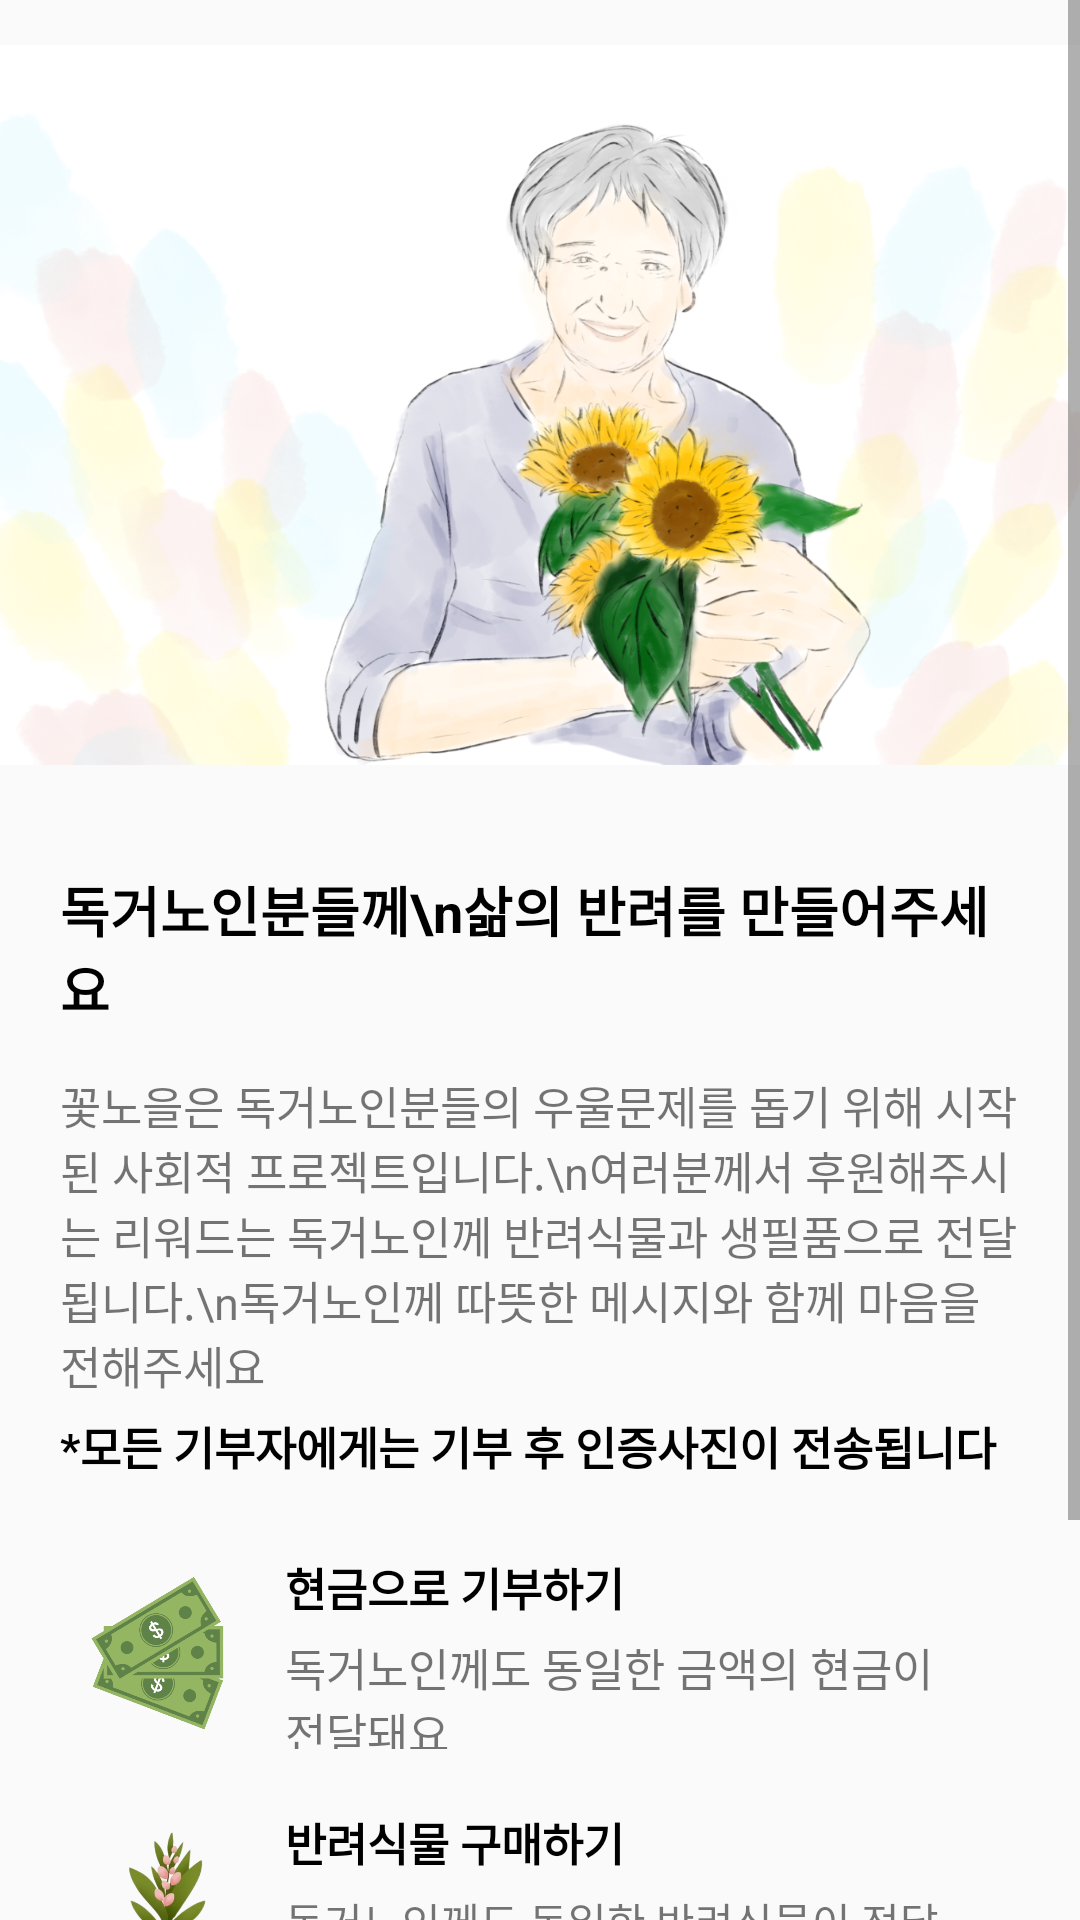

Screen size 1080px×1920px. Icon name, then its center in pixels as point (x, y):
money: point (157, 1653)
